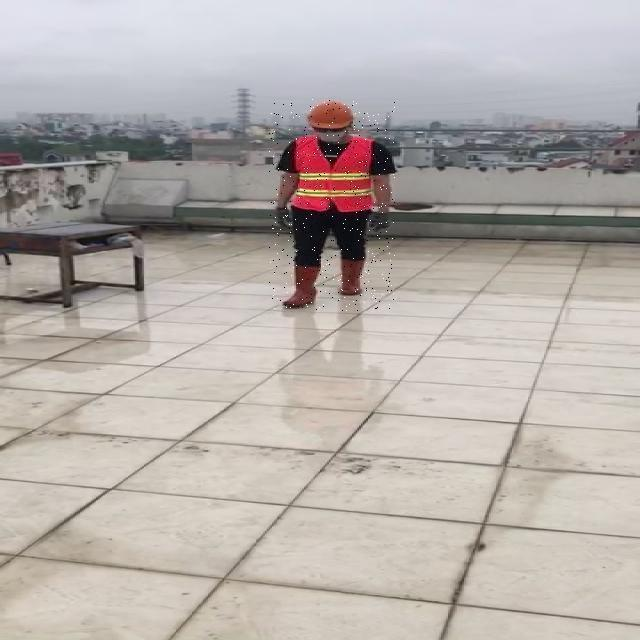helmet: (306, 100, 356, 130)
safety_vest: (292, 136, 375, 212)
